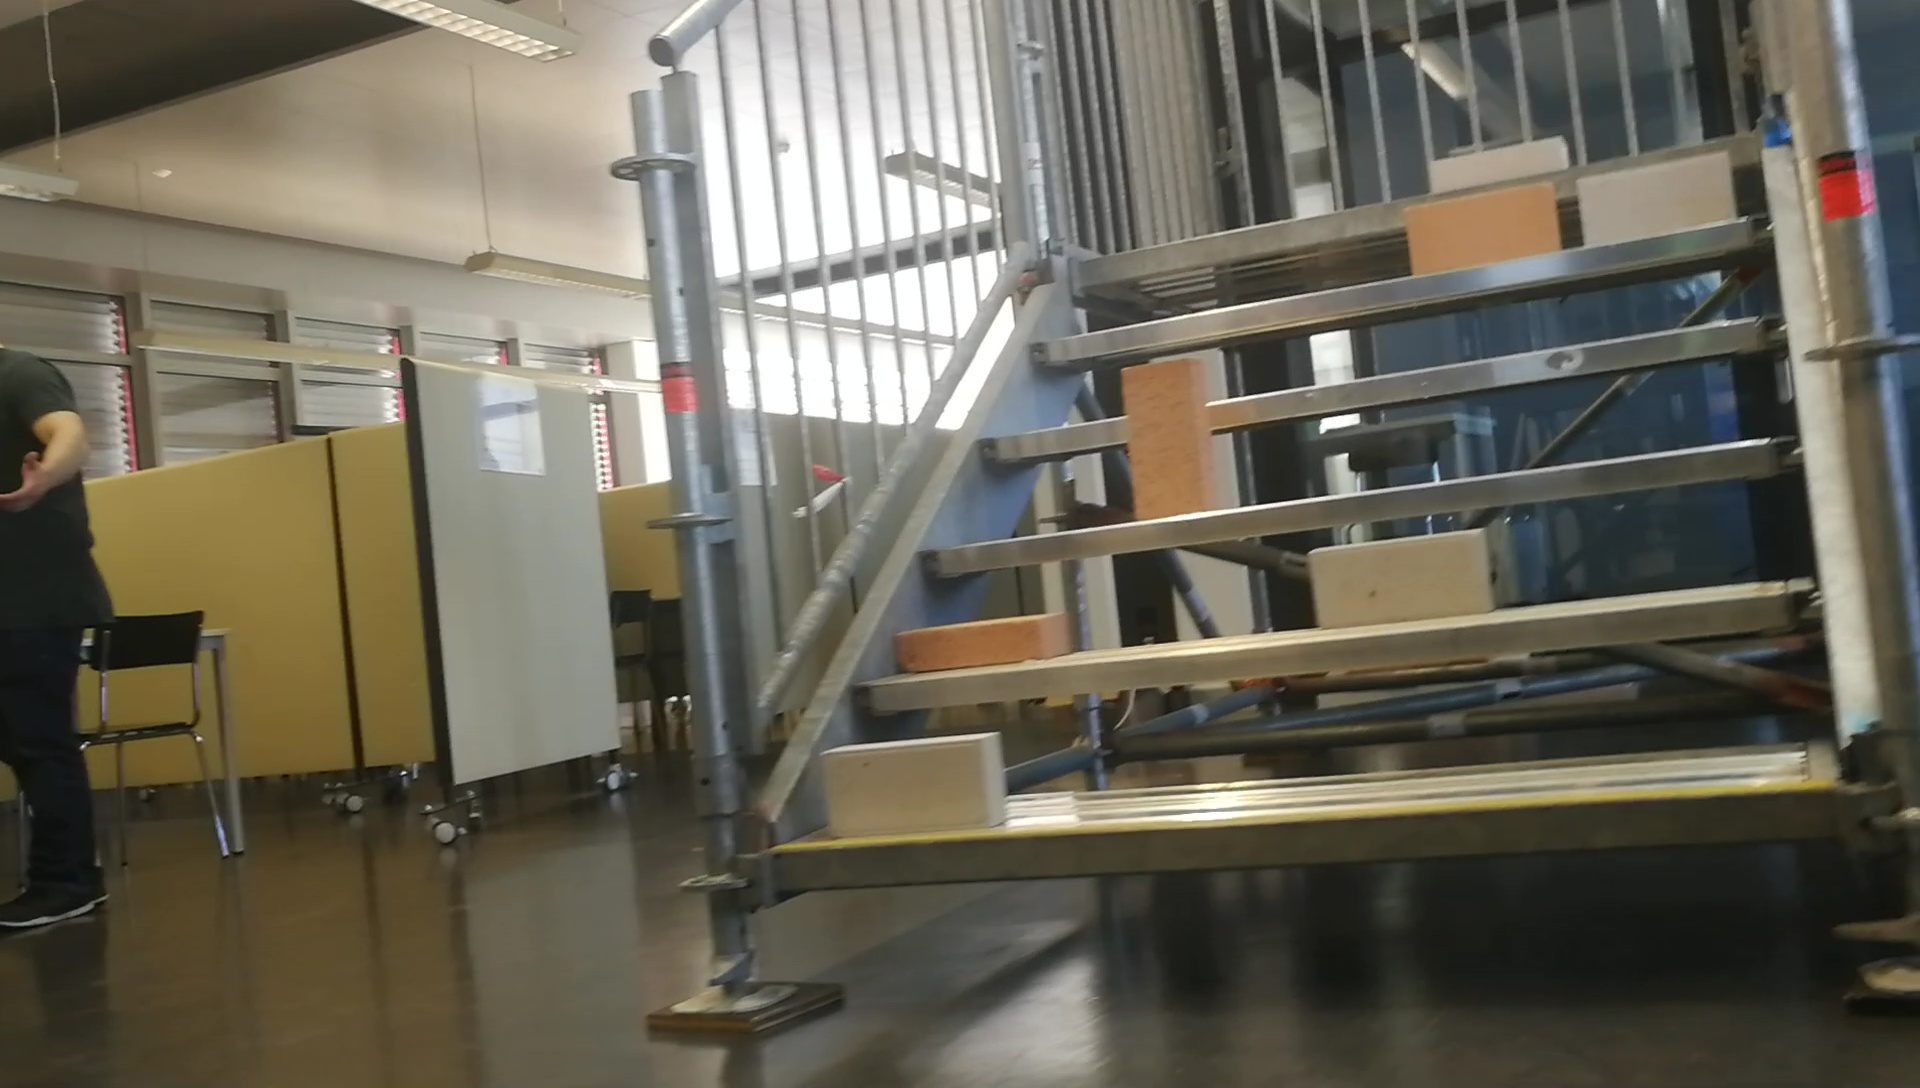brick: (1309, 528, 1487, 634), (823, 735, 1002, 835), (1124, 359, 1217, 522), (1578, 150, 1731, 247), (1403, 181, 1555, 274), (895, 613, 1069, 667), (1431, 135, 1557, 181)
edge: (920, 435, 1803, 578), (978, 313, 1783, 468), (851, 586, 1817, 706), (1030, 212, 1772, 365), (770, 787, 1840, 885)
stairs: (615, 3, 1915, 1041)
steps: (765, 129, 1865, 901)
